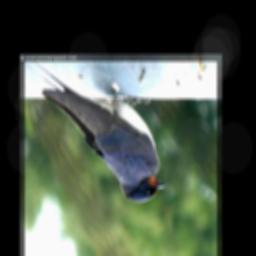Swallow: (26, 55, 167, 203)
